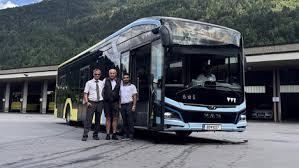bus: (53, 15, 248, 137)
